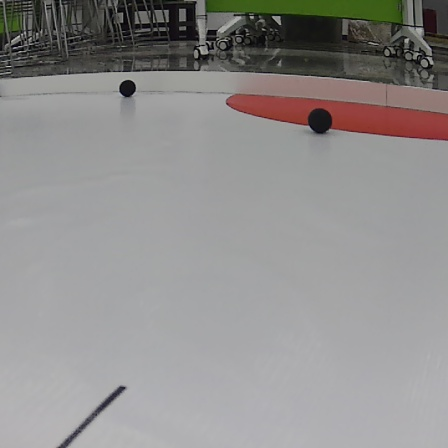black: (302, 107, 334, 134), (116, 78, 140, 102)
red_base: (222, 82, 448, 148)
